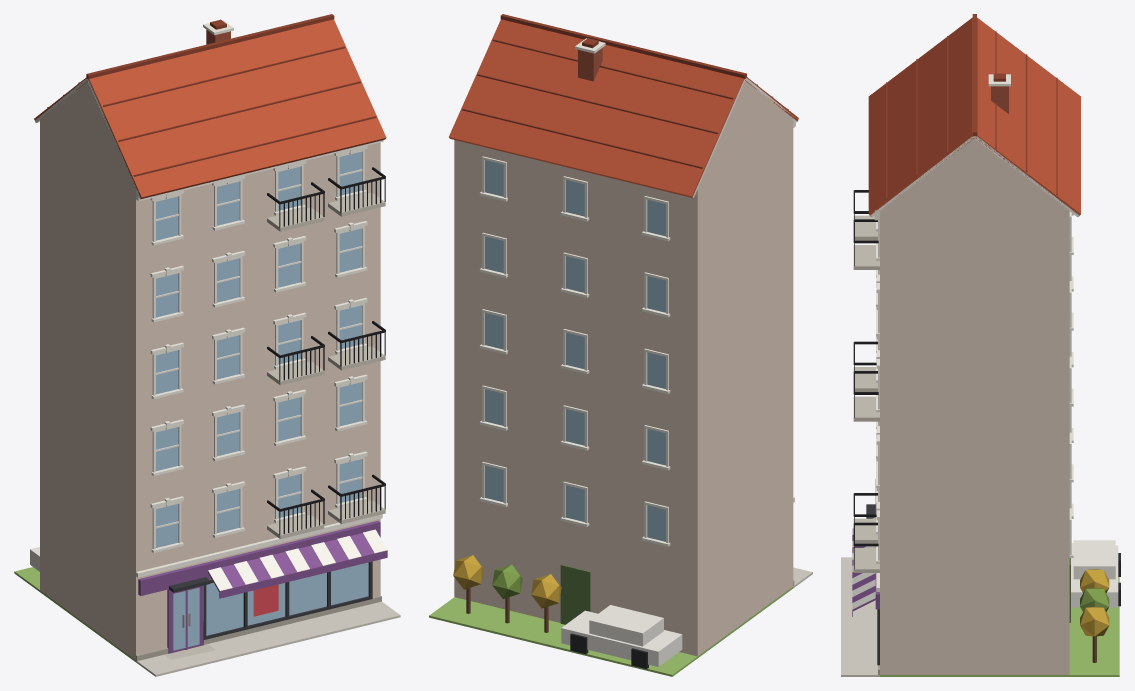
Rendered from Blok_duz_6k_3_Hafif.fbx.
3 renders of one model, left to right at view 1: azimuth 30°, elevation 25°; view 2: azimuth 150°, elevation 25°; view 3: azimuth 270°, elevation 25°, orthographic.
Parts seen in each view (by area): view 1: Blok_duz_6k_3_Hafif; view 2: Blok_duz_6k_3_Hafif; view 3: Blok_duz_6k_3_Hafif.
Part boxes in pixels (x1=…): Blok_duz_6k_3_Hafif: x1=14, y1=14, x2=400, y2=676; Blok_duz_6k_3_Hafif: x1=429, y1=14, x2=812, y2=676; Blok_duz_6k_3_Hafif: x1=841, y1=14, x2=1120, y2=676.
Bounding box in the file's own units: 10.04 × 21.9 × 10.04.
